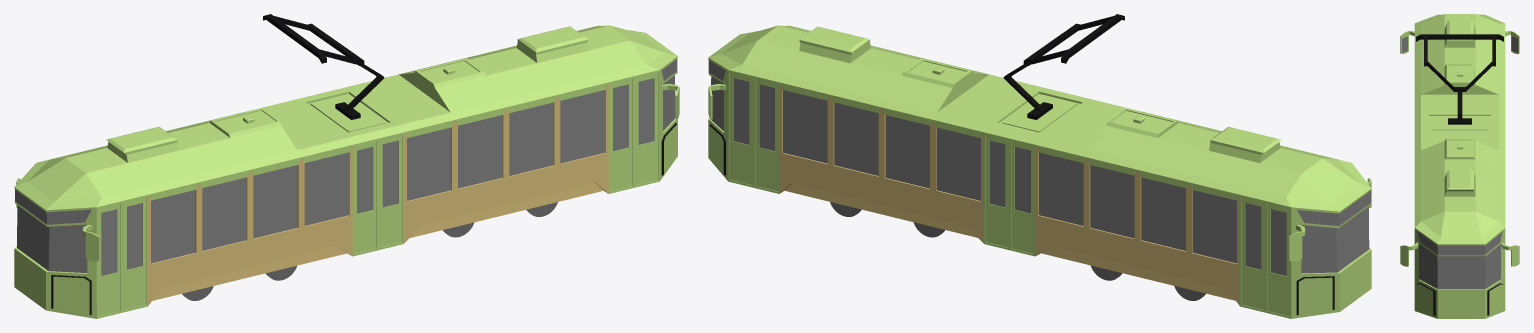
The model's file is Tram_2WithRoofAntennaMirrorsVents_Colour.fbx.
3 views of the same model, side by side, from view 1: azimuth 30°, elevation 25°; view 2: azimuth 150°, elevation 25°; view 3: azimuth 270°, elevation 25° (orthographic). The views are drawn at different scales.
Visible parts, largest first — view 1: Mirror4; view 2: Mirror4; view 3: Mirror4.
Part boxes in pixels (x1,y1,x2,y2): Mirror4: (14, 14, 679, 318); Mirror4: (708, 14, 1371, 318); Mirror4: (1400, 14, 1519, 318).
Bounding box in the file's own units: 3853 × 1287 × 848.
